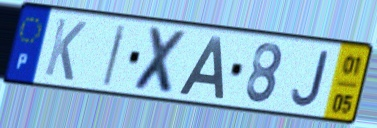8: (244, 42, 284, 106)
A: (175, 33, 226, 101)
I: (100, 22, 129, 89)
J: (289, 49, 331, 109)
K: (42, 15, 90, 84)
X: (130, 24, 191, 98)
